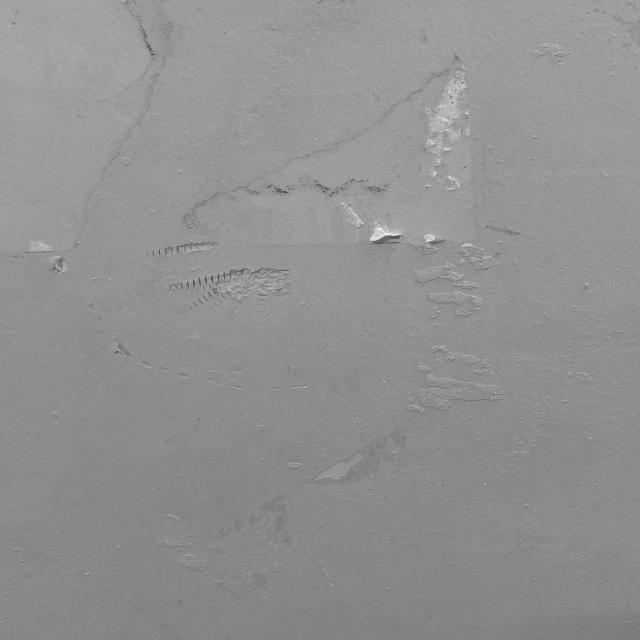rough and patchy surface: (38, 50, 616, 623)
